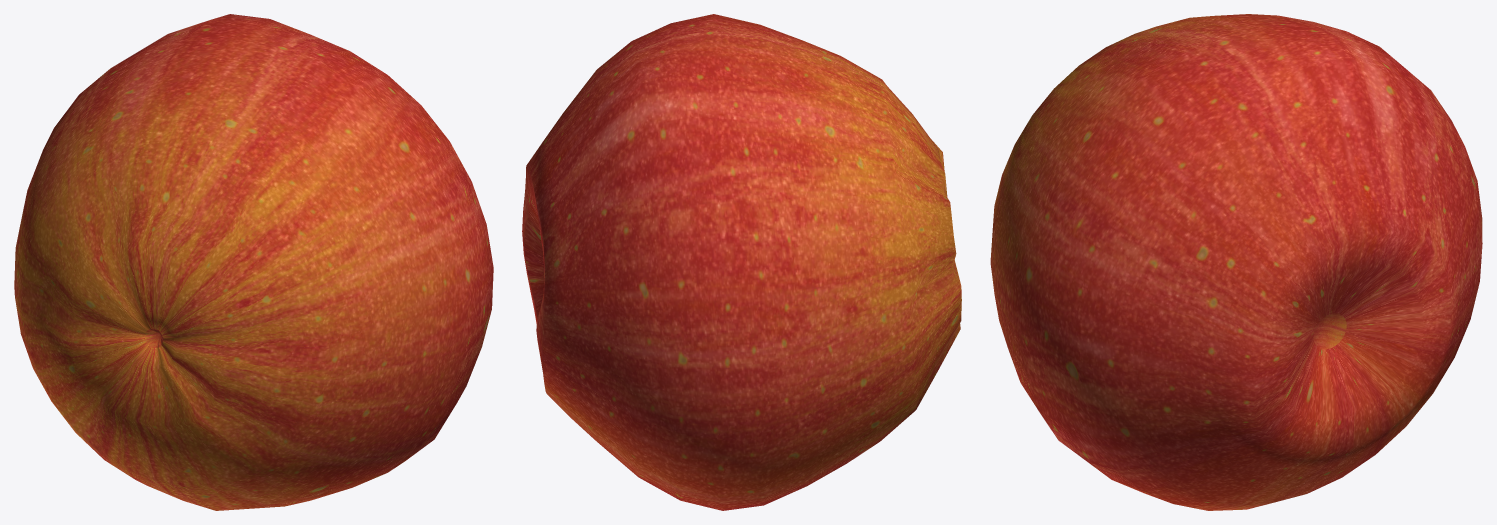
File: apple.glb
The picture shows the model from 3 angles, left to right: view 1: azimuth 30°, elevation 25°; view 2: azimuth 150°, elevation 25°; view 3: azimuth 270°, elevation 25°; orthographic projection. The views are drawn at different scales.
Parts seen in each view (by area): view 1: apple.005; view 2: apple.005; view 3: apple.005.
Boxes of the visible parts, bbox=[...] form: apple.005: bbox=[14, 14, 493, 510]; apple.005: bbox=[522, 14, 961, 510]; apple.005: bbox=[990, 14, 1482, 510].
Size of the model in its own units: 0.5587 by 0.5766 by 0.562.
Materials: 1 (1 with a texture image).
